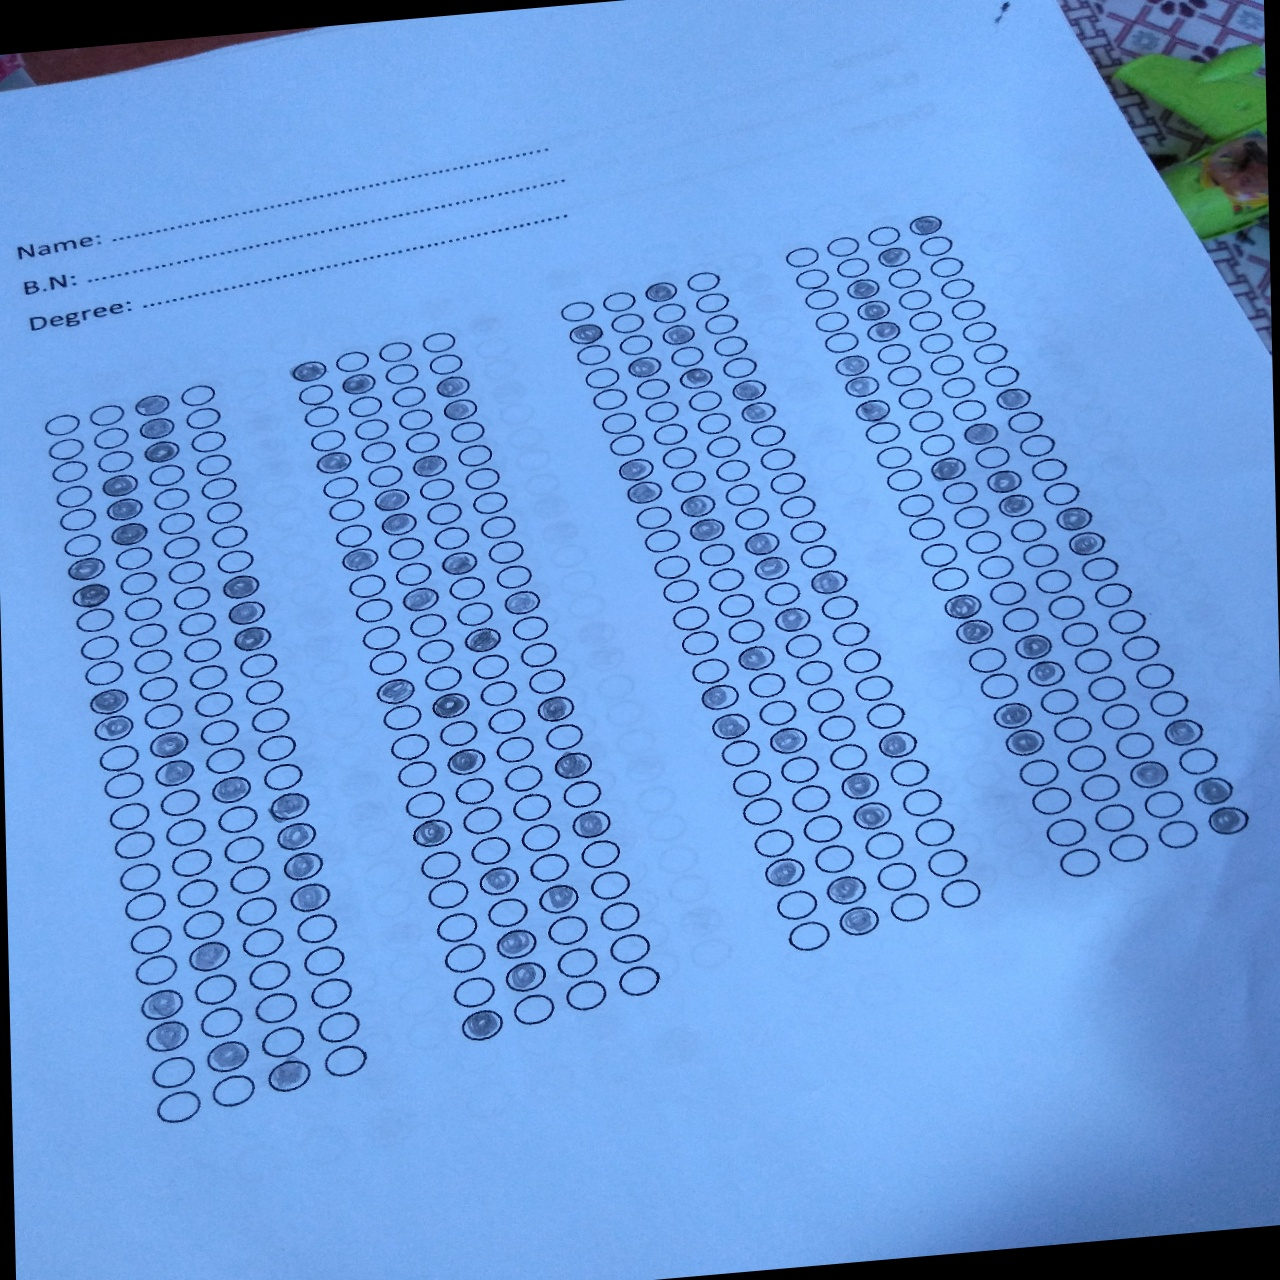not-c: (245, 956, 292, 994), (239, 924, 286, 961), (787, 918, 833, 955), (561, 976, 610, 1013), (192, 971, 238, 1008), (511, 990, 557, 1028), (887, 890, 933, 927), (155, 1088, 202, 1124), (321, 1043, 368, 1080), (315, 1009, 362, 1046), (198, 1005, 245, 1041), (293, 911, 340, 947), (553, 944, 600, 980), (606, 930, 653, 966), (774, 887, 821, 924), (937, 874, 983, 911), (924, 845, 971, 881), (259, 1024, 305, 1061), (302, 942, 348, 979), (617, 964, 662, 1000), (209, 1073, 256, 1108), (253, 989, 300, 1024), (308, 976, 354, 1012), (175, 876, 219, 911), (1092, 799, 1137, 835), (132, 953, 178, 987), (862, 699, 908, 731), (234, 893, 278, 928), (129, 922, 173, 956), (181, 908, 225, 942), (229, 862, 273, 896), (170, 846, 215, 880), (222, 833, 266, 867), (215, 803, 259, 837), (163, 816, 207, 850), (158, 784, 203, 818), (151, 1055, 196, 1089), (730, 765, 775, 799), (777, 753, 822, 787), (862, 829, 907, 862), (887, 757, 933, 790), (789, 782, 835, 815), (740, 795, 785, 828), (813, 712, 859, 744), (719, 736, 764, 769), (1064, 740, 1107, 775), (1107, 831, 1149, 866), (427, 877, 470, 911), (527, 850, 571, 884), (443, 941, 486, 975), (1058, 846, 1102, 880), (1078, 771, 1122, 805), (254, 731, 299, 764), (912, 816, 956, 849), (813, 842, 858, 874), (801, 812, 845, 845), (900, 787, 945, 819), (826, 740, 871, 772), (874, 860, 919, 893), (261, 760, 304, 794), (560, 777, 602, 811), (519, 821, 561, 855), (418, 849, 461, 883), (485, 896, 527, 930), (579, 838, 621, 872), (588, 869, 631, 903), (452, 975, 495, 1009), (1044, 815, 1087, 849), (118, 860, 162, 893), (123, 890, 166, 922), (459, 804, 503, 837), (598, 900, 641, 933), (1016, 756, 1060, 789), (1177, 744, 1220, 777), (1141, 788, 1184, 821), (1156, 818, 1199, 851), (202, 744, 246, 776), (547, 913, 588, 947), (753, 828, 798, 858), (511, 791, 553, 824), (469, 835, 511, 867), (1030, 785, 1073, 818), (141, 700, 184, 731), (108, 799, 151, 831), (113, 830, 156, 862), (518, 639, 561, 670), (471, 651, 513, 682), (525, 666, 567, 697), (485, 706, 527, 737), (248, 704, 292, 735), (542, 722, 585, 753), (395, 760, 438, 790), (1148, 688, 1191, 719), (493, 733, 535, 764), (436, 911, 477, 942), (804, 685, 845, 716), (794, 658, 835, 689), (1099, 700, 1141, 731), (413, 636, 455, 667), (389, 731, 431, 762), (436, 719, 478, 749), (476, 679, 518, 709), (852, 673, 894, 703), (689, 656, 731, 687), (102, 771, 145, 801), (84, 658, 125, 688), (243, 678, 284, 708), (199, 717, 240, 748), (423, 663, 464, 694), (382, 702, 423, 733), (404, 790, 445, 821), (757, 697, 798, 728), (842, 645, 883, 675), (783, 631, 824, 661), (830, 619, 871, 649), (726, 617, 767, 647), (670, 602, 712, 633), (651, 552, 692, 583), (788, 517, 829, 547), (930, 564, 971, 594), (1073, 646, 1114, 676), (1085, 674, 1126, 704), (1039, 686, 1080, 716), (132, 647, 175, 676), (137, 674, 179, 703), (502, 764, 544, 794), (1051, 715, 1094, 744), (1114, 730, 1156, 760), (1136, 660, 1175, 692), (237, 652, 280, 680), (747, 669, 787, 700), (821, 592, 860, 622), (1107, 606, 1146, 636), (79, 633, 120, 662), (188, 662, 229, 692), (193, 690, 234, 720), (98, 743, 139, 772), (367, 648, 408, 678), (509, 614, 550, 644), (454, 776, 495, 805), (777, 492, 818, 522), (974, 553, 1015, 583), (988, 579, 1029, 608), (978, 670, 1019, 700), (1058, 620, 1099, 649), (680, 628, 720, 658), (661, 577, 701, 606), (733, 504, 772, 533), (660, 442, 700, 471), (1000, 605, 1040, 634), (967, 646, 1007, 675), (1121, 634, 1160, 663), (161, 533, 202, 561), (181, 635, 222, 663), (477, 513, 518, 542), (493, 561, 535, 590), (445, 574, 486, 602), (354, 595, 395, 624), (761, 580, 802, 608), (706, 566, 747, 594), (642, 526, 683, 554), (634, 503, 675, 531), (1080, 554, 1121, 583), (1092, 581, 1133, 610), (1046, 593, 1087, 621), (74, 606, 116, 633), (114, 544, 154, 572), (171, 584, 211, 612), (128, 621, 168, 649), (433, 524, 472, 552), (715, 591, 755, 619), (798, 543, 838, 571), (697, 540, 737, 568), (758, 445, 798, 474), (703, 433, 743, 461), (951, 503, 990, 531), (906, 515, 946, 543), (918, 540, 958, 568), (964, 527, 1003, 556), (1034, 567, 1074, 595), (118, 570, 159, 597), (177, 610, 218, 636), (348, 573, 389, 600), (384, 536, 425, 563), (484, 539, 525, 566), (408, 612, 449, 639), (360, 624, 401, 651), (394, 561, 435, 588), (768, 469, 806, 497), (714, 457, 753, 485), (749, 422, 788, 450), (1007, 516, 1046, 544), (182, 406, 222, 433), (62, 532, 102, 559), (168, 559, 207, 586), (123, 595, 163, 622), (454, 601, 493, 628), (971, 444, 1010, 471), (1020, 542, 1060, 568), (896, 492, 937, 518), (157, 509, 195, 537), (669, 467, 707, 495), (195, 451, 233, 478), (216, 549, 254, 576), (148, 462, 186, 489), (366, 463, 404, 490), (722, 481, 761, 508), (885, 467, 924, 493), (1017, 433, 1056, 459), (1042, 481, 1081, 508), (46, 436, 86, 462), (205, 499, 243, 526), (43, 411, 81, 438), (91, 425, 129, 452), (377, 338, 415, 365), (456, 441, 493, 468), (685, 268, 722, 295), (939, 275, 976, 302), (1030, 456, 1068, 483), (189, 429, 227, 455), (210, 524, 248, 550), (54, 484, 93, 510), (57, 506, 96, 532), (152, 486, 191, 512), (448, 418, 486, 444), (917, 331, 955, 356), (918, 433, 956, 458), (940, 481, 979, 506), (418, 476, 455, 503), (651, 421, 687, 448), (617, 331, 653, 358), (866, 222, 903, 248), (864, 418, 900, 445), (1006, 409, 1042, 436), (178, 382, 216, 408), (200, 475, 238, 501), (88, 402, 125, 428), (97, 449, 135, 475), (50, 459, 88, 485), (427, 352, 464, 377), (353, 416, 390, 442), (463, 465, 501, 491), (425, 501, 463, 526), (592, 386, 629, 411), (652, 300, 689, 326), (822, 329, 859, 355), (896, 287, 933, 313), (971, 340, 1008, 366), (939, 374, 976, 400), (874, 444, 912, 470), (333, 349, 372, 374), (322, 474, 358, 501), (697, 409, 733, 436), (610, 431, 645, 458), (585, 365, 620, 392), (695, 290, 730, 316), (328, 497, 365, 523), (471, 490, 508, 516), (335, 523, 372, 549), (600, 410, 636, 436), (644, 399, 680, 424), (687, 387, 723, 413), (721, 354, 757, 380), (668, 343, 704, 369), (713, 333, 749, 359), (703, 312, 740, 338), (784, 244, 821, 270), (825, 233, 862, 259), (918, 232, 954, 258), (813, 308, 850, 334), (876, 340, 912, 366), (961, 319, 998, 345), (949, 297, 986, 322), (886, 363, 922, 389), (983, 363, 1020, 389), (896, 384, 932, 410), (907, 408, 944, 434), (951, 397, 987, 423), (297, 381, 334, 406), (302, 404, 340, 429), (359, 440, 396, 464), (558, 299, 595, 324), (397, 407, 433, 433), (309, 427, 345, 452), (635, 376, 670, 402), (576, 342, 611, 368), (908, 308, 944, 334), (930, 254, 965, 280), (887, 266, 922, 292), (928, 352, 964, 377), (347, 394, 383, 418), (392, 384, 428, 409), (403, 429, 440, 454), (608, 311, 645, 335), (418, 331, 456, 354), (384, 361, 420, 386), (601, 290, 636, 314), (836, 256, 870, 279), (796, 267, 830, 291), (804, 287, 838, 311)
taken-c: (459, 1006, 508, 1043), (139, 986, 188, 1022), (186, 938, 232, 975), (477, 862, 523, 899), (493, 925, 540, 961), (535, 881, 581, 918), (876, 727, 922, 763), (849, 798, 896, 835), (568, 805, 617, 840), (147, 1019, 192, 1055), (838, 903, 884, 939), (762, 855, 808, 891), (837, 769, 883, 805), (204, 1039, 251, 1074), (825, 873, 872, 908), (1206, 803, 1251, 839), (267, 1058, 313, 1094), (761, 855, 806, 890), (768, 724, 813, 760), (1190, 772, 1235, 808), (504, 959, 549, 994), (408, 817, 454, 851), (1160, 715, 1204, 750), (697, 681, 742, 715), (1012, 631, 1056, 665), (953, 617, 998, 651), (771, 602, 816, 636), (710, 710, 754, 744), (736, 642, 779, 676), (1002, 726, 1046, 760), (1128, 757, 1171, 791), (147, 728, 191, 761), (268, 789, 313, 822), (210, 774, 253, 806), (290, 881, 333, 914), (992, 699, 1035, 731), (429, 692, 474, 723), (499, 587, 544, 619), (399, 585, 443, 617), (435, 549, 479, 580), (336, 544, 381, 576), (550, 749, 595, 779), (372, 676, 417, 707), (154, 757, 196, 790), (282, 850, 325, 883), (1024, 659, 1067, 692), (443, 747, 486, 778), (535, 694, 578, 726), (464, 625, 508, 656), (942, 591, 986, 622), (1054, 505, 1098, 536), (958, 420, 1002, 450), (275, 821, 318, 852), (806, 568, 850, 599), (927, 455, 971, 485), (91, 712, 132, 743), (219, 572, 261, 602), (231, 624, 273, 654), (90, 686, 132, 716), (1065, 529, 1108, 559), (983, 468, 1026, 498), (994, 491, 1037, 520), (229, 597, 268, 628), (843, 372, 883, 402), (72, 581, 113, 611), (433, 374, 474, 403), (742, 529, 783, 558), (100, 472, 142, 501), (855, 395, 893, 425), (831, 352, 870, 382), (377, 510, 417, 539), (108, 520, 149, 549), (67, 554, 108, 583), (409, 452, 450, 481), (995, 384, 1033, 415), (864, 319, 903, 348), (874, 243, 913, 272), (372, 486, 411, 515), (441, 396, 481, 424), (313, 449, 353, 477), (339, 370, 379, 399), (288, 358, 328, 386), (753, 554, 792, 583), (132, 392, 173, 418), (141, 438, 182, 465), (618, 455, 655, 484), (625, 354, 663, 382), (738, 399, 777, 427), (625, 478, 663, 506), (105, 495, 145, 522), (568, 320, 605, 349), (137, 416, 178, 442), (855, 297, 892, 325), (906, 212, 944, 240), (659, 321, 696, 349), (679, 365, 716, 393), (680, 491, 717, 519), (689, 515, 727, 543), (844, 275, 883, 302), (730, 376, 767, 404), (644, 278, 681, 305)
